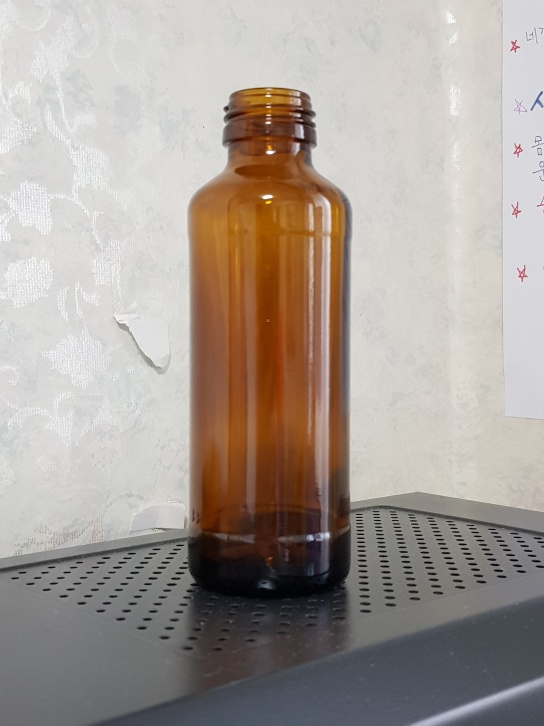Glass: (183, 86, 355, 598)
